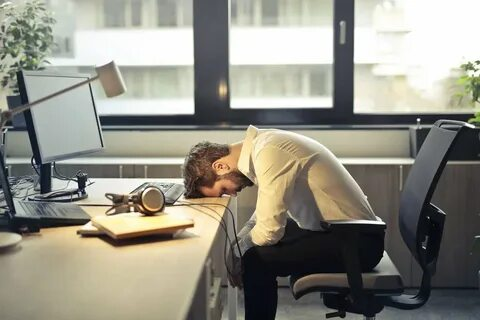sleep: (181, 125, 386, 271)
